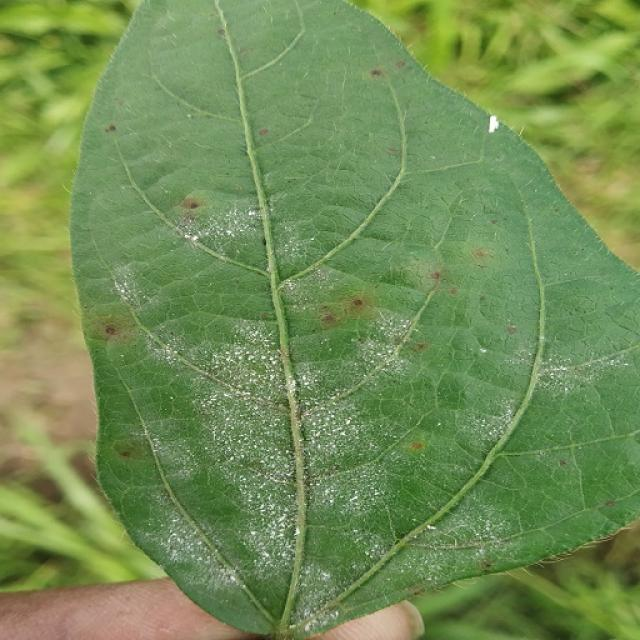Blackgram: (72, 0, 639, 635)
Powdery_Mildew: (293, 343, 401, 483), (299, 448, 393, 548), (222, 452, 303, 561), (211, 343, 276, 439), (179, 202, 275, 267), (533, 280, 620, 345), (372, 539, 465, 596), (333, 322, 409, 382), (455, 390, 509, 445), (448, 501, 509, 547), (159, 523, 211, 570), (109, 261, 154, 310), (538, 361, 586, 397), (307, 605, 341, 631), (302, 618, 319, 635), (552, 363, 571, 374), (248, 208, 260, 218), (230, 574, 240, 585), (228, 454, 237, 463), (189, 234, 198, 242), (479, 347, 488, 354), (169, 395, 175, 401)
